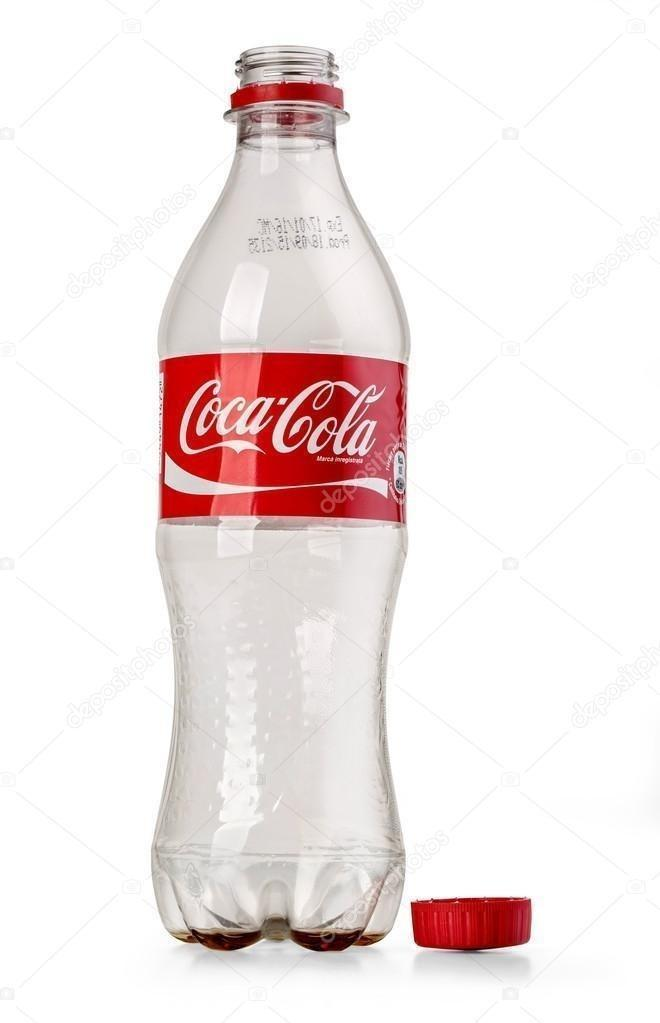bottle-plastic: (132, 29, 415, 963)
